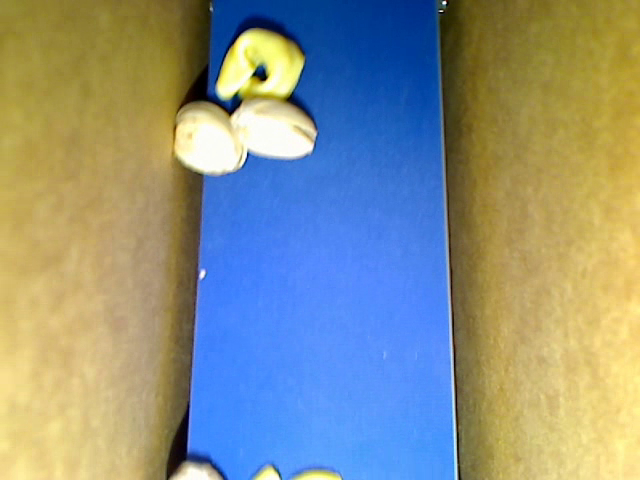tortellini: (215, 26, 305, 103)
